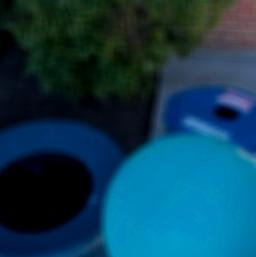algae: (100, 132, 256, 257)
